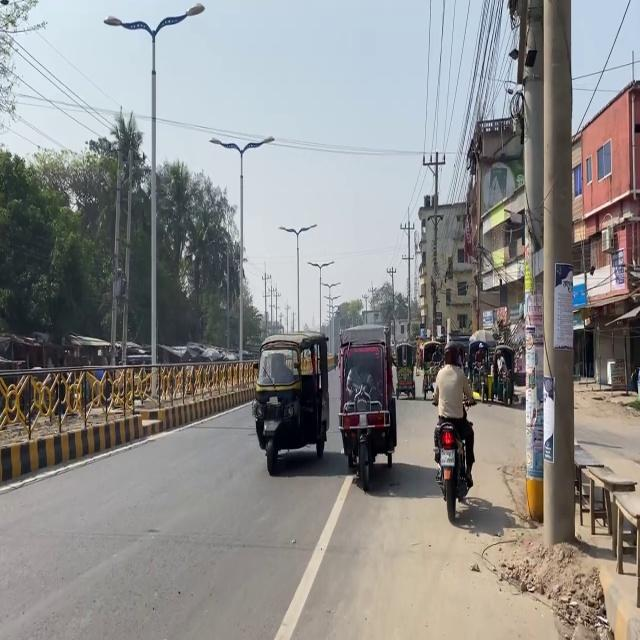Construction-barrier: (0, 413, 152, 482)
Fallen-tree: (431, 396, 476, 522)
Garbage: (573, 442, 604, 526)
Light-pole: (541, 0, 575, 546), (521, 0, 544, 522)
Pole: (4, 342, 238, 492)
Pothole: (513, 377, 639, 638)
Traffic-cone: (251, 331, 330, 475), (336, 323, 398, 490), (394, 342, 416, 399)
